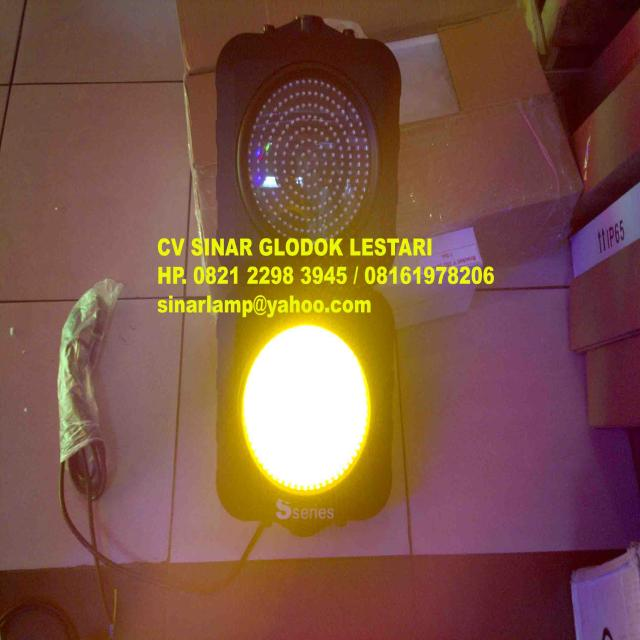Kuning: (240, 321, 372, 495)
